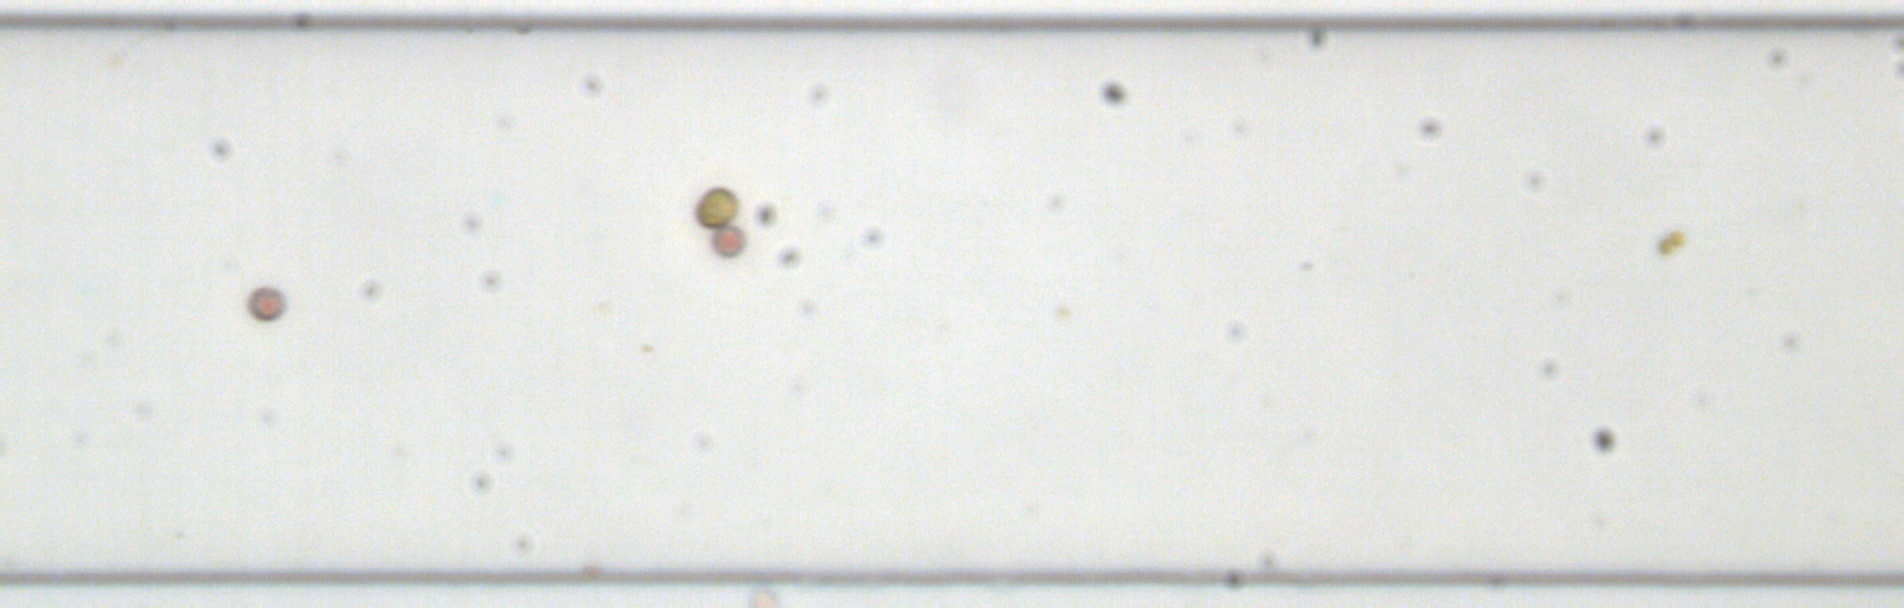Chlorella: (1054, 303, 1069, 320)
Dunaliella salina: (1653, 227, 1687, 258)
Effrenium: (690, 187, 739, 231)
Porphyridium: (243, 283, 287, 324), (709, 223, 746, 258)
